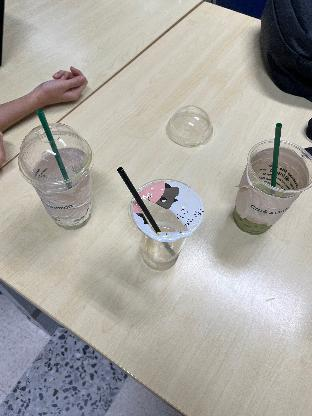Plastic Cup: (230, 138, 312, 236), (18, 132, 96, 232), (124, 180, 206, 272), (16, 120, 95, 188), (163, 103, 219, 149)
